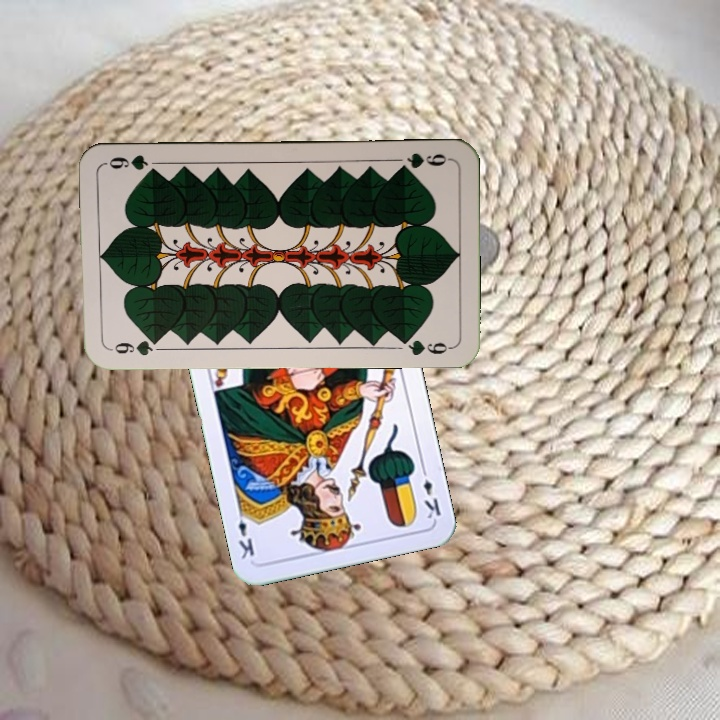EK: (417, 462, 444, 522)
G9: (394, 148, 453, 174), (105, 334, 163, 359)
